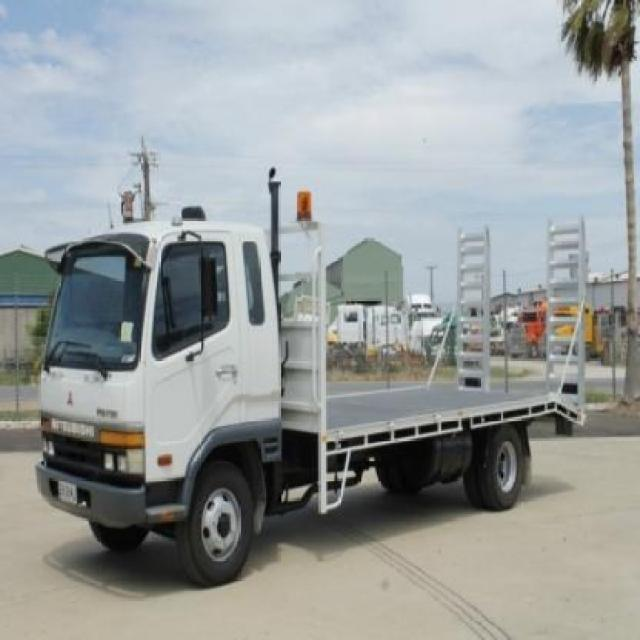truck: (33, 169, 591, 589)
